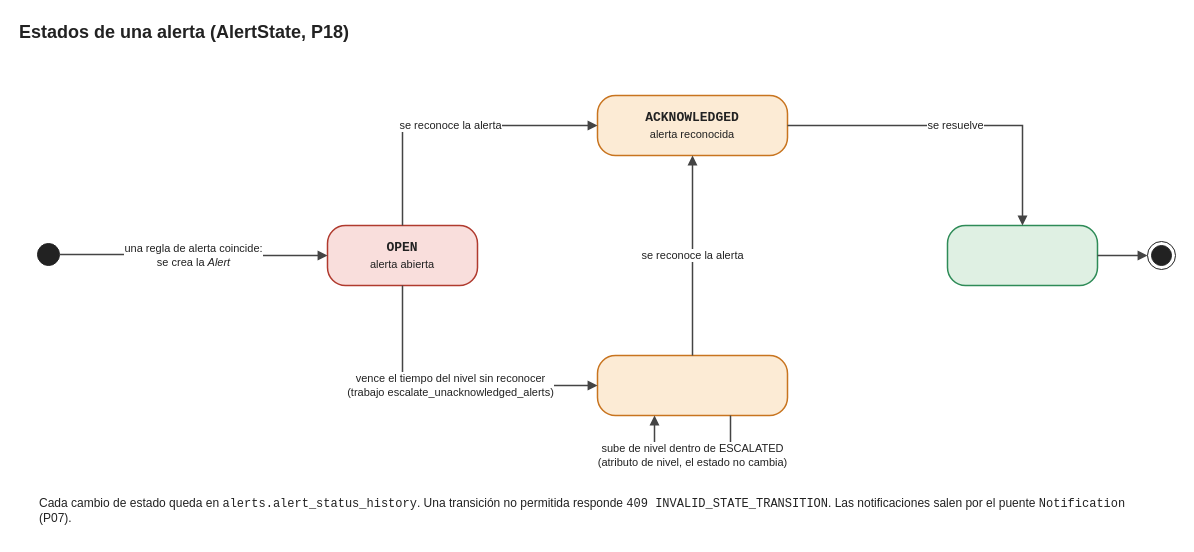
The diagram is 1194 pixels wide and 552 high, and some of its shapes have lost their labels. Each missing label, with the box of its shape:
ESCALATED escalada: (596, 354, 788, 416)
RESOLVED resuelta: (946, 224, 1098, 286)
